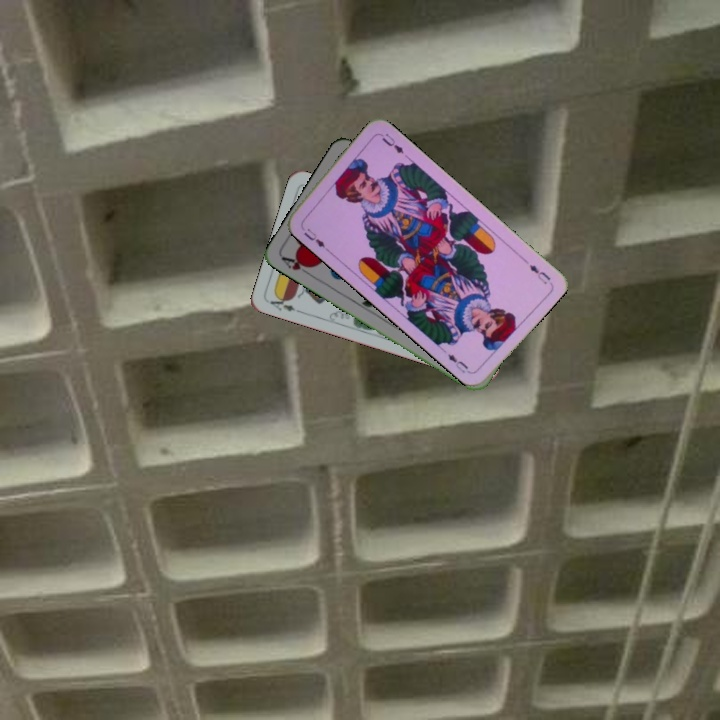EA: (266, 291, 304, 316)
EU: (297, 222, 331, 253), (525, 260, 553, 287)
HA: (278, 253, 315, 279)
